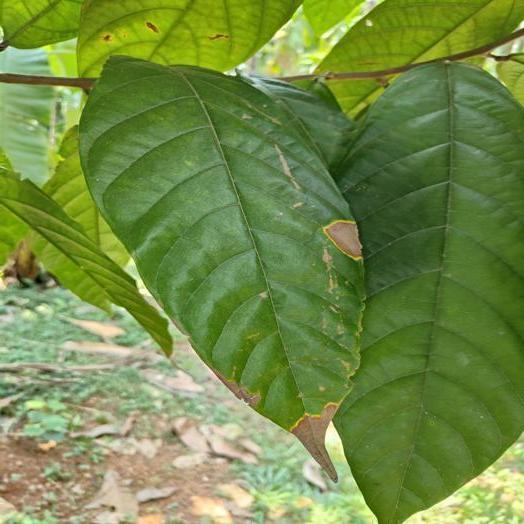Potassium: (80, 56, 363, 478)
